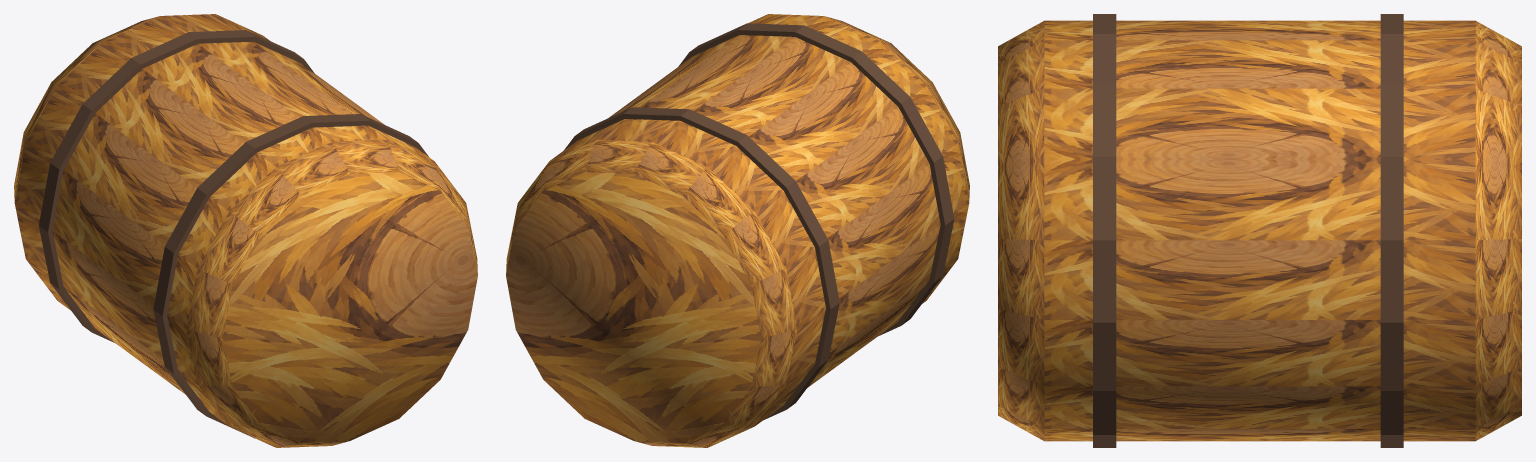
Rendered from hay_bale.glb.
The picture shows the model from 3 angles, left to right: view 1: azimuth 30°, elevation 25°; view 2: azimuth 150°, elevation 25°; view 3: azimuth 270°, elevation 25°; orthographic projection. The views are drawn at different scales.
Visible parts, largest first — view 1: Rolled hay bundle, Bound hay strap.001, Bound hay strap; view 2: Rolled hay bundle, Bound hay strap.001, Bound hay strap; view 3: Rolled hay bundle, Bound hay strap, Bound hay strap.001.
Boxes of the visible parts, x1,y1,x2,y2 form: Rolled hay bundle: [14, 14, 477, 447]; Bound hay strap.001: [153, 114, 428, 438]; Bound hay strap: [38, 30, 314, 342]; Rolled hay bundle: [506, 14, 969, 447]; Bound hay strap.001: [678, 23, 954, 335]; Bound hay strap: [564, 107, 839, 419]; Rolled hay bundle: [998, 20, 1521, 441]; Bound hay strap: [1380, 14, 1403, 447]; Bound hay strap.001: [1093, 14, 1116, 447].
Size of the model in its own units: 0.846 by 0.846 by 1.02.
2 materials, 1 textured.
